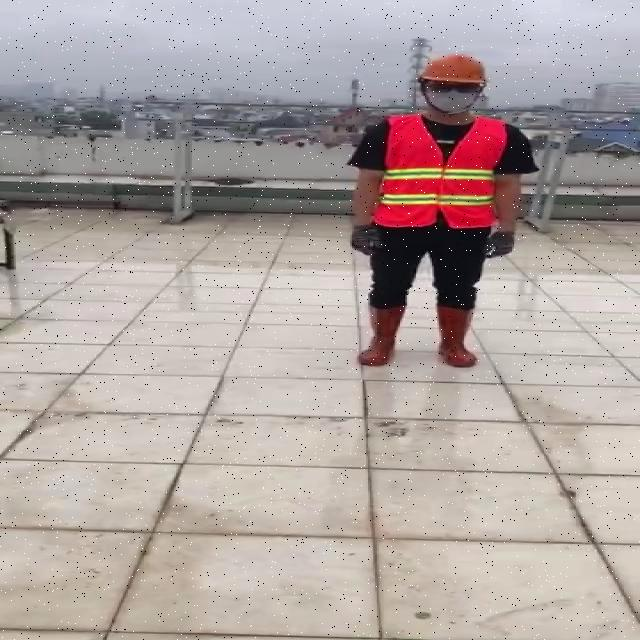Hard_hat: (412, 53, 493, 95)
Vest: (374, 109, 504, 228)
